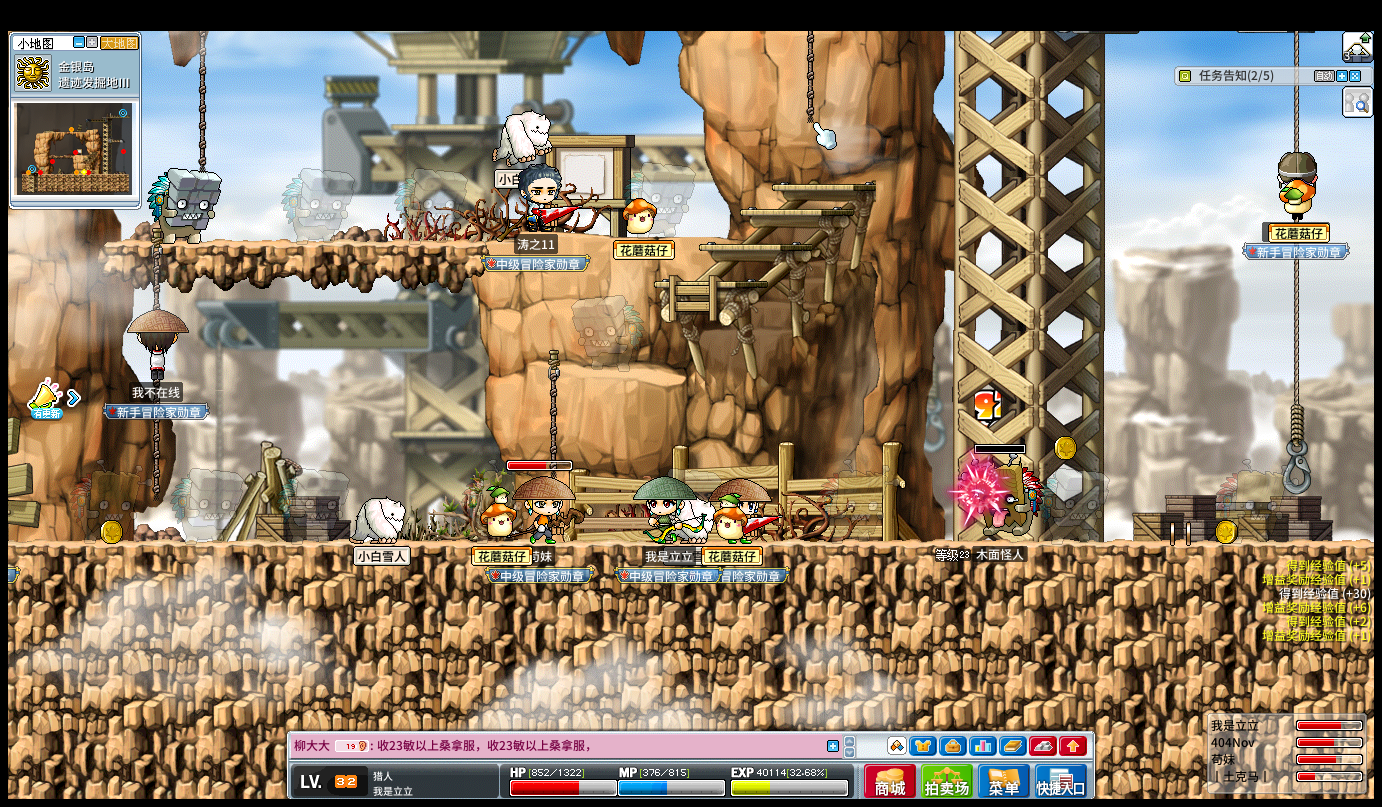floor: (7, 538, 1373, 551), (112, 237, 483, 250), (580, 365, 688, 387), (654, 280, 767, 291), (741, 207, 846, 215), (772, 183, 876, 189)
monster: (1216, 460, 1299, 545), (961, 454, 1045, 537), (168, 465, 245, 544), (145, 168, 222, 244), (572, 295, 646, 372), (396, 168, 468, 244), (281, 168, 350, 242), (1043, 469, 1110, 544), (74, 459, 132, 541), (626, 162, 696, 203), (699, 242, 814, 251)
rope: (1293, 257, 1304, 410), (547, 349, 561, 466), (198, 32, 207, 172), (151, 418, 164, 499), (803, 31, 814, 123), (151, 231, 164, 307), (806, 31, 815, 122), (1293, 31, 1299, 151), (1289, 400, 1304, 445), (152, 411, 159, 490)
